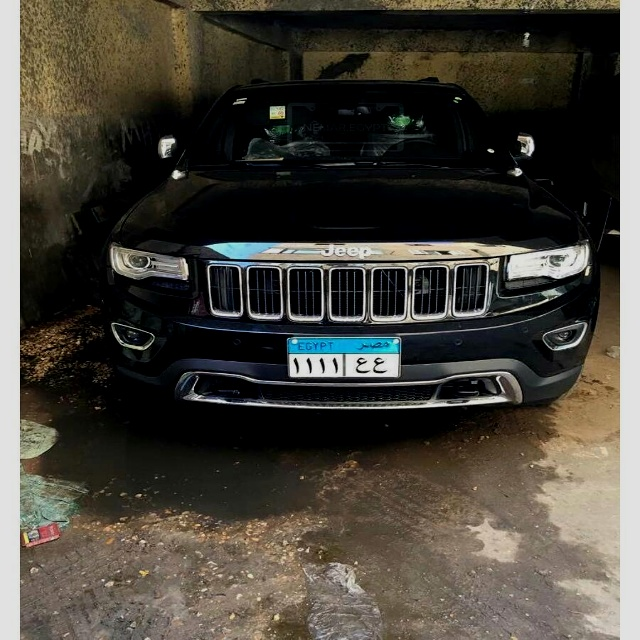License Plate: (282, 332, 405, 381)
